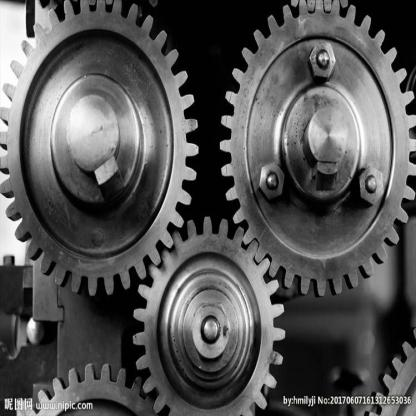FOD: (0, 0, 200, 302), (218, 0, 416, 302), (130, 212, 287, 415)
